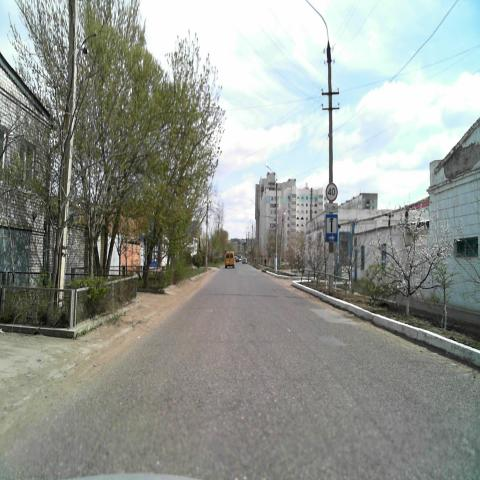3_24: (326, 181, 338, 202)
7_4: (325, 213, 338, 243)
8_5_4: (324, 202, 338, 213)
